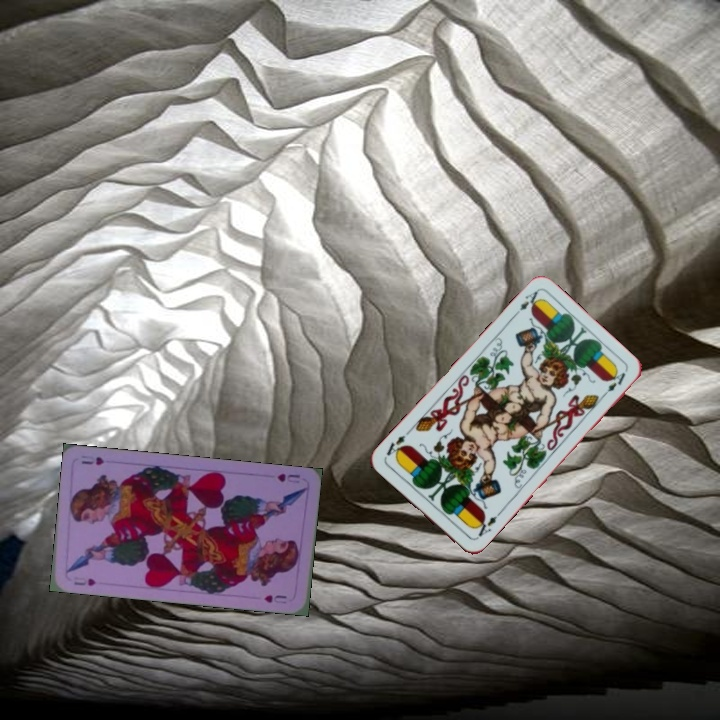EA: (471, 508, 503, 542), (515, 287, 543, 313)
HU: (273, 469, 302, 486), (70, 572, 98, 589)
